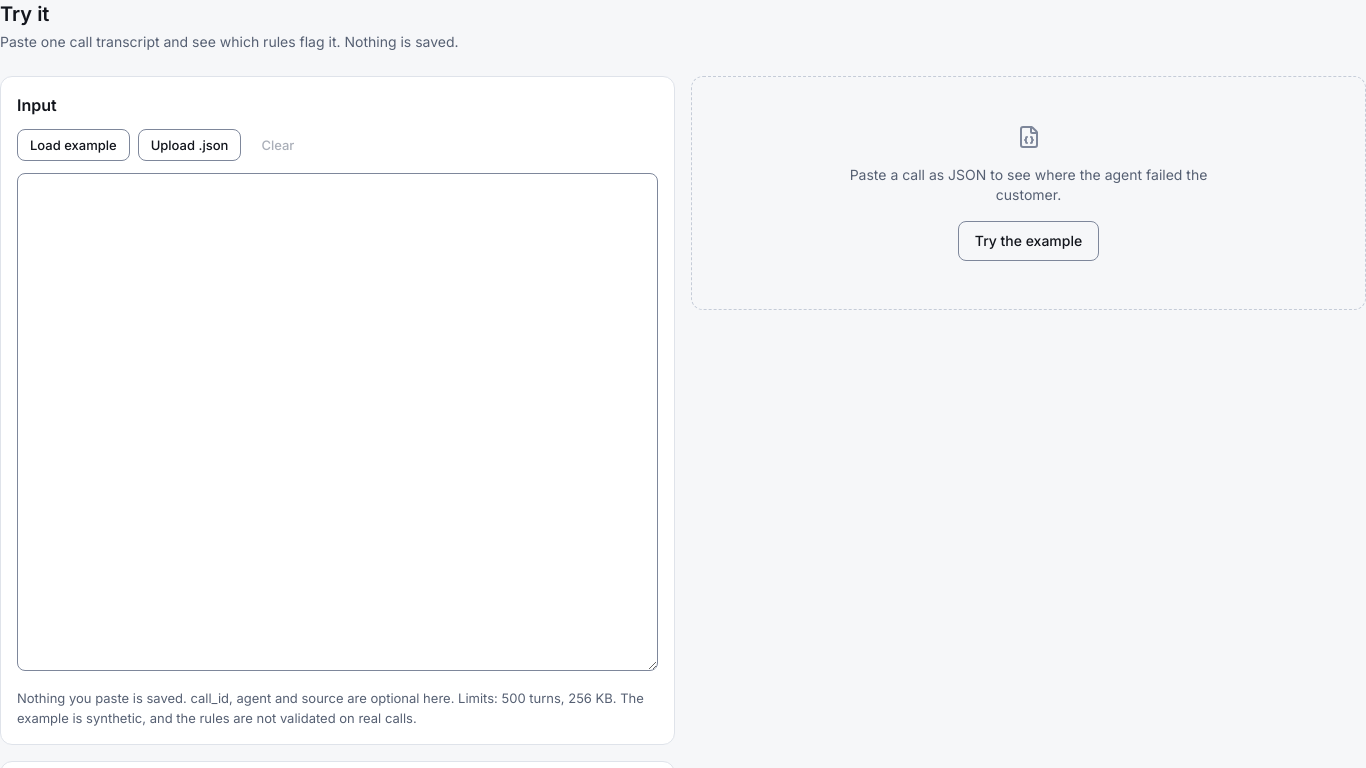
workbench settings › shows the settings the server used, and the lanes follow them
The width and height of the screenshot is (1366, 768).
Click the button "Load example": (73, 145) [17,129,130,161]
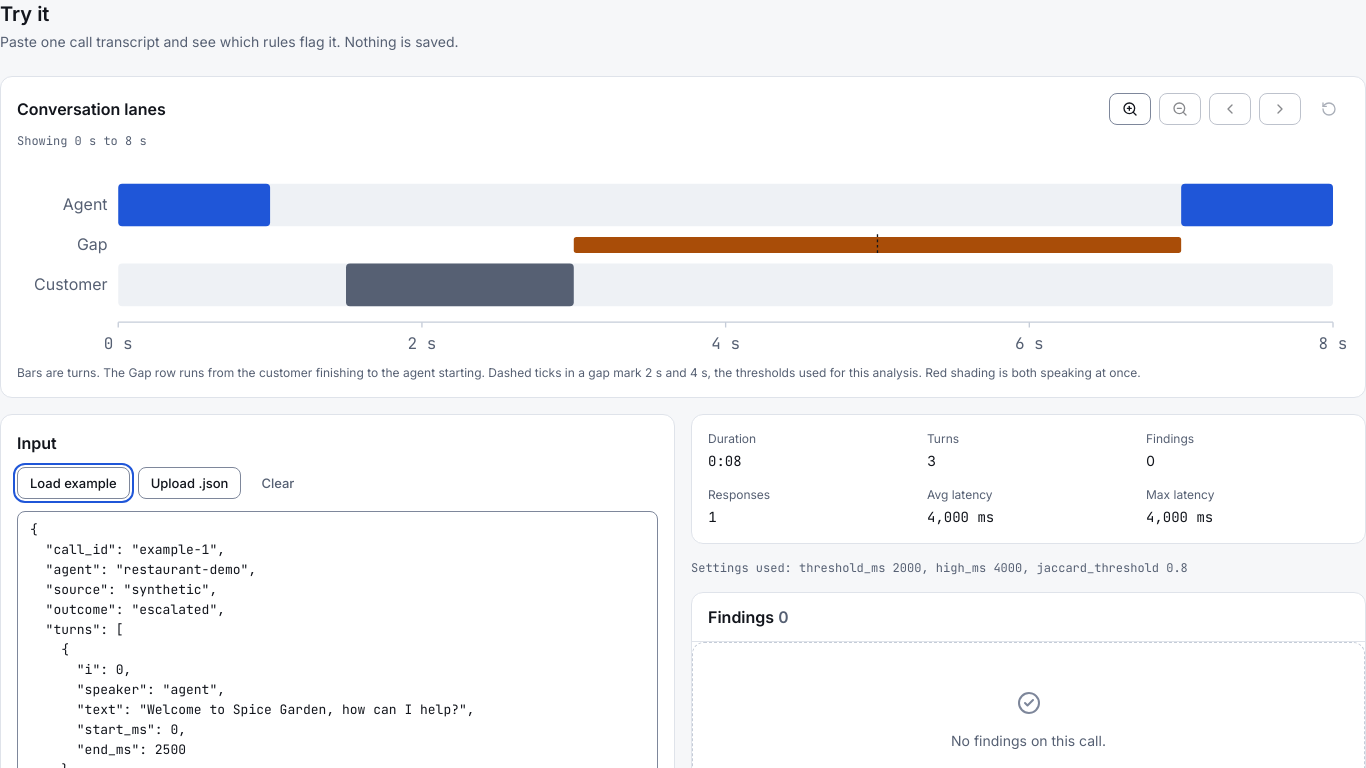
Expected: the text "Settings used: threshold_ms 2000, high_ms 4000, jaccard_threshold 0.8" is shown, [691,560,1188,576]
Expected: the text "mark 2 s and 4 s, the thresholds used for this analysis" is shown, [17,365,1141,380]
